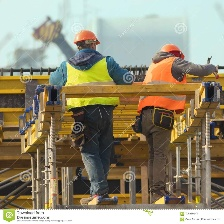person: (44, 30, 133, 208), (138, 41, 218, 210)
vest: (65, 58, 120, 111), (141, 58, 185, 112)
